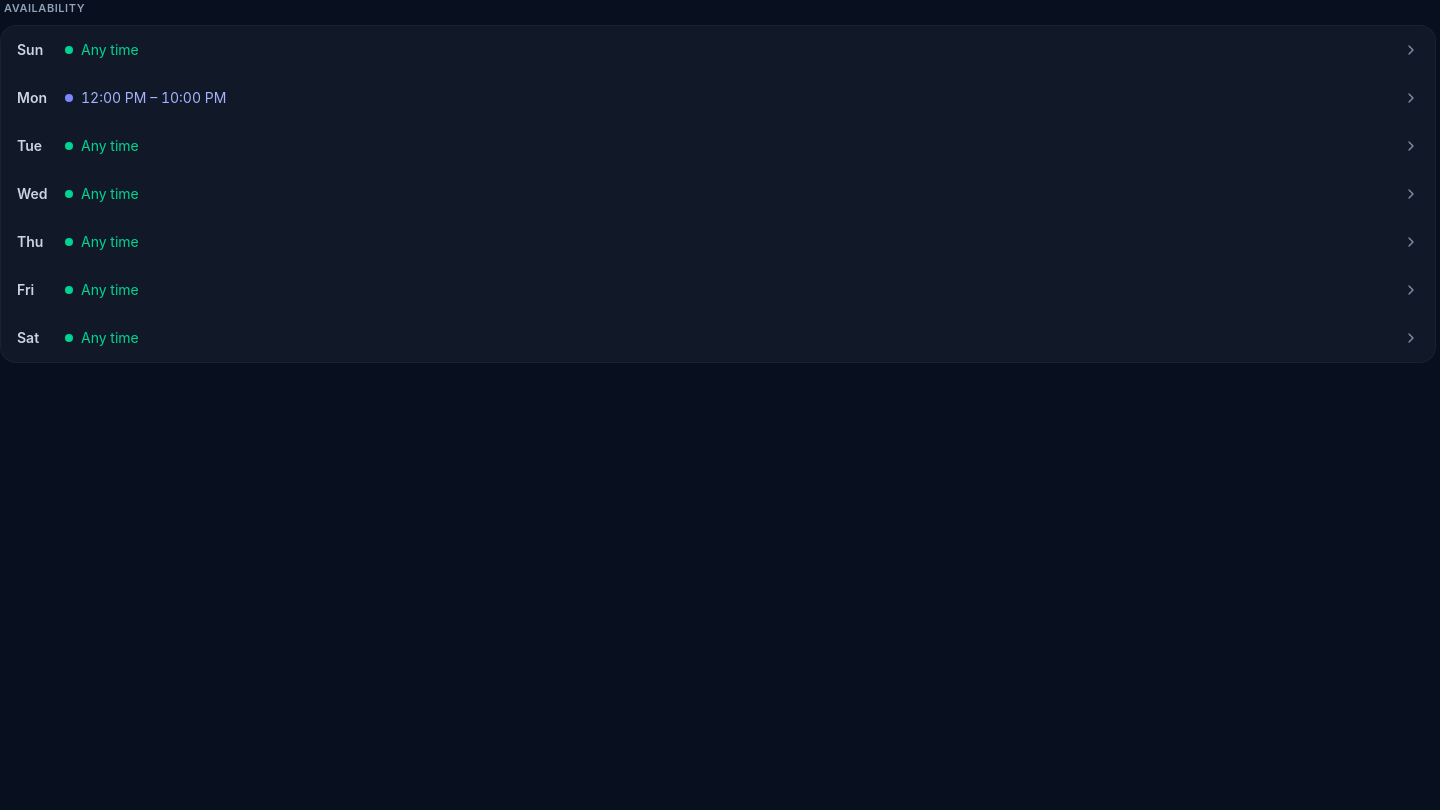
AvailabilitySection › shows visual availability bar in sheet for a saved window record
The image size is (1440, 810).
Click the button "Mon 12:00 PM – 10:00 PM". click: [87, 109]
box: x1=1 y1=74 x2=1435 y2=122
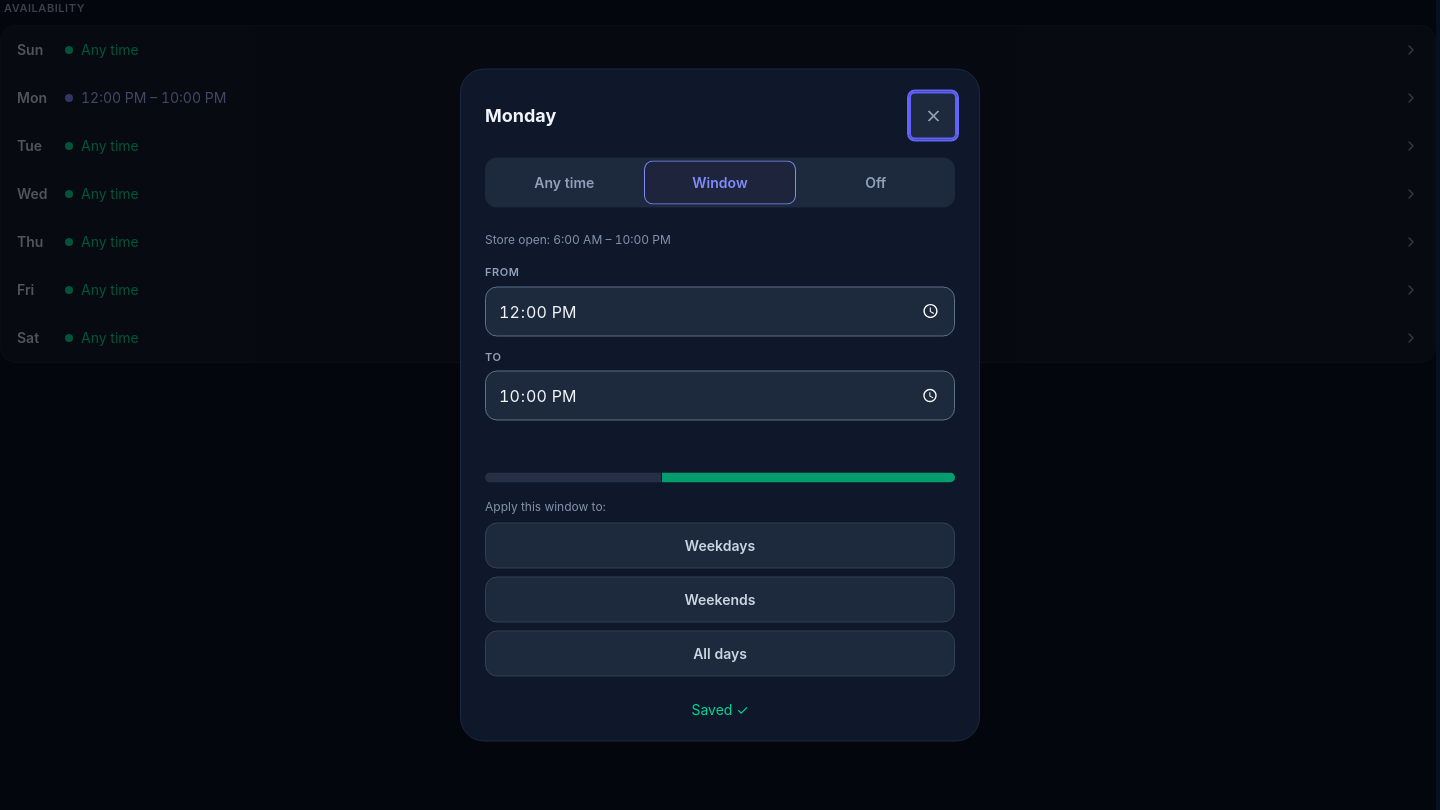
Now the element named "availability bar" is shown, box x1=485 y1=472 x2=955 y2=482
